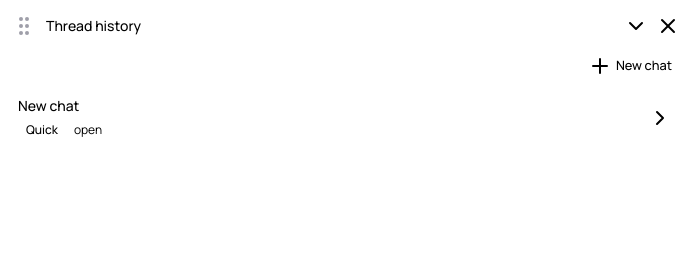
Test: history › restores a saved editable campaign brief and its exact prefill link without claiming a draft
Click the button named "open new chat" at (660, 118), box [646, 104, 674, 132]
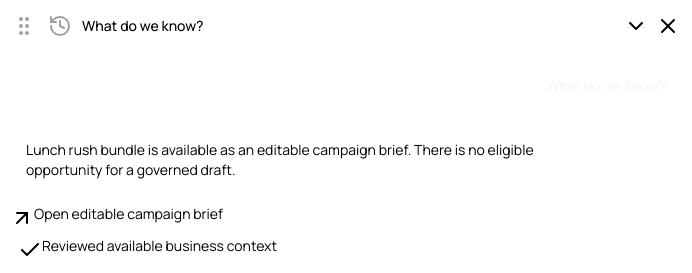
Expected: the text "Lunch rush bundle is available as an editable campaign brief" is shown, [26, 140, 536, 179]
